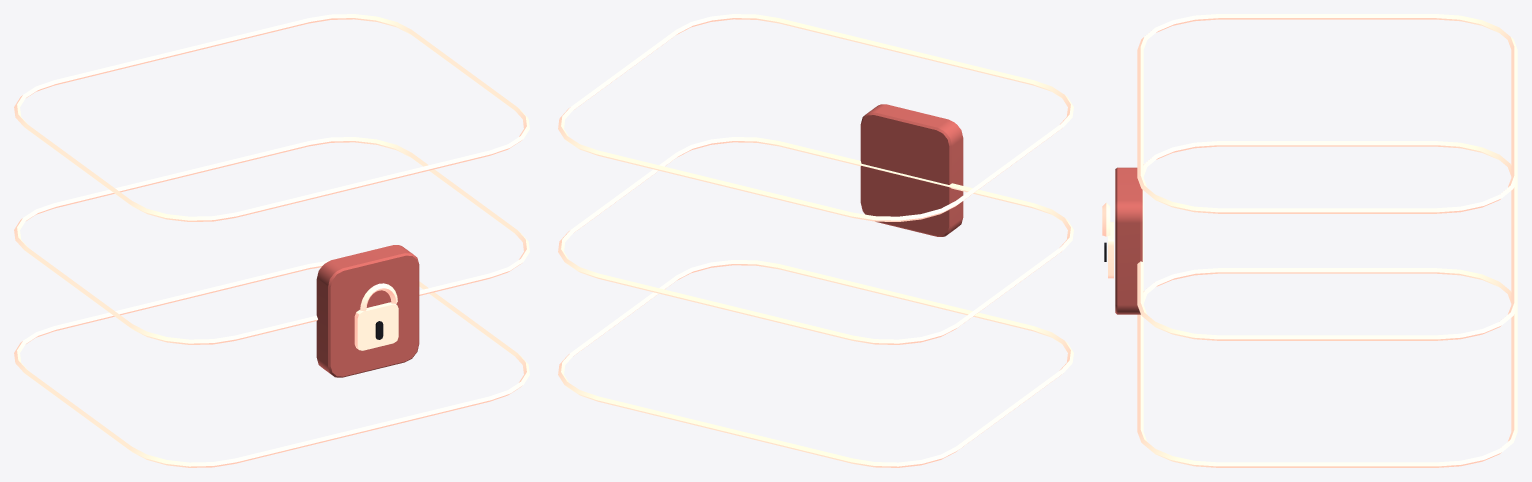
The model's file is pn_ico_candado.glb.
3 renders of one model, left to right at view 1: azimuth 30°, elevation 25°; view 2: azimuth 150°, elevation 25°; view 3: azimuth 270°, elevation 25°, orthographic. The views are drawn at different scales.
Visible parts, largest first — view 1: pn_ico_candado; view 2: pn_ico_candado; view 3: pn_ico_candado.
Part boxes in pixels (bbox=[...]): pn_ico_candado: bbox=[14, 14, 529, 467]; pn_ico_candado: bbox=[558, 14, 1073, 467]; pn_ico_candado: bbox=[1102, 14, 1517, 467].
Bounding box in the file's own units: 0.58 × 0.3569 × 0.517.
